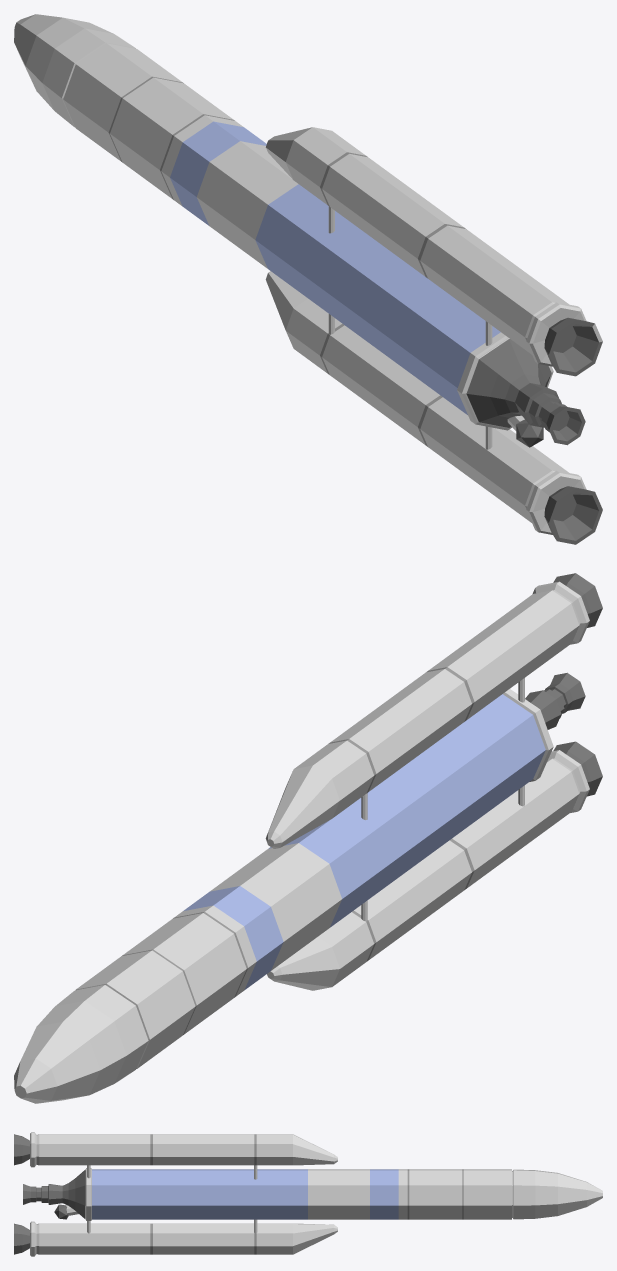
File: rocket.glb
3 renders of one model, top to bottom at view 1: azimuth 30°, elevation 25°; view 2: azimuth 150°, elevation 25°; view 3: azimuth 270°, elevation 25°, orthographic. The views are drawn at different scales.
Parts seen in each view (by area): view 1: rocket; view 2: rocket; view 3: rocket.
Boxes of the visible parts, box(x1,y1,x2,y2) form: rocket: box(14, 14, 602, 544); rocket: box(14, 573, 602, 1103); rocket: box(14, 1132, 602, 1256).
Size of the model in its own units: 9.82 by 23.68 by 103.
